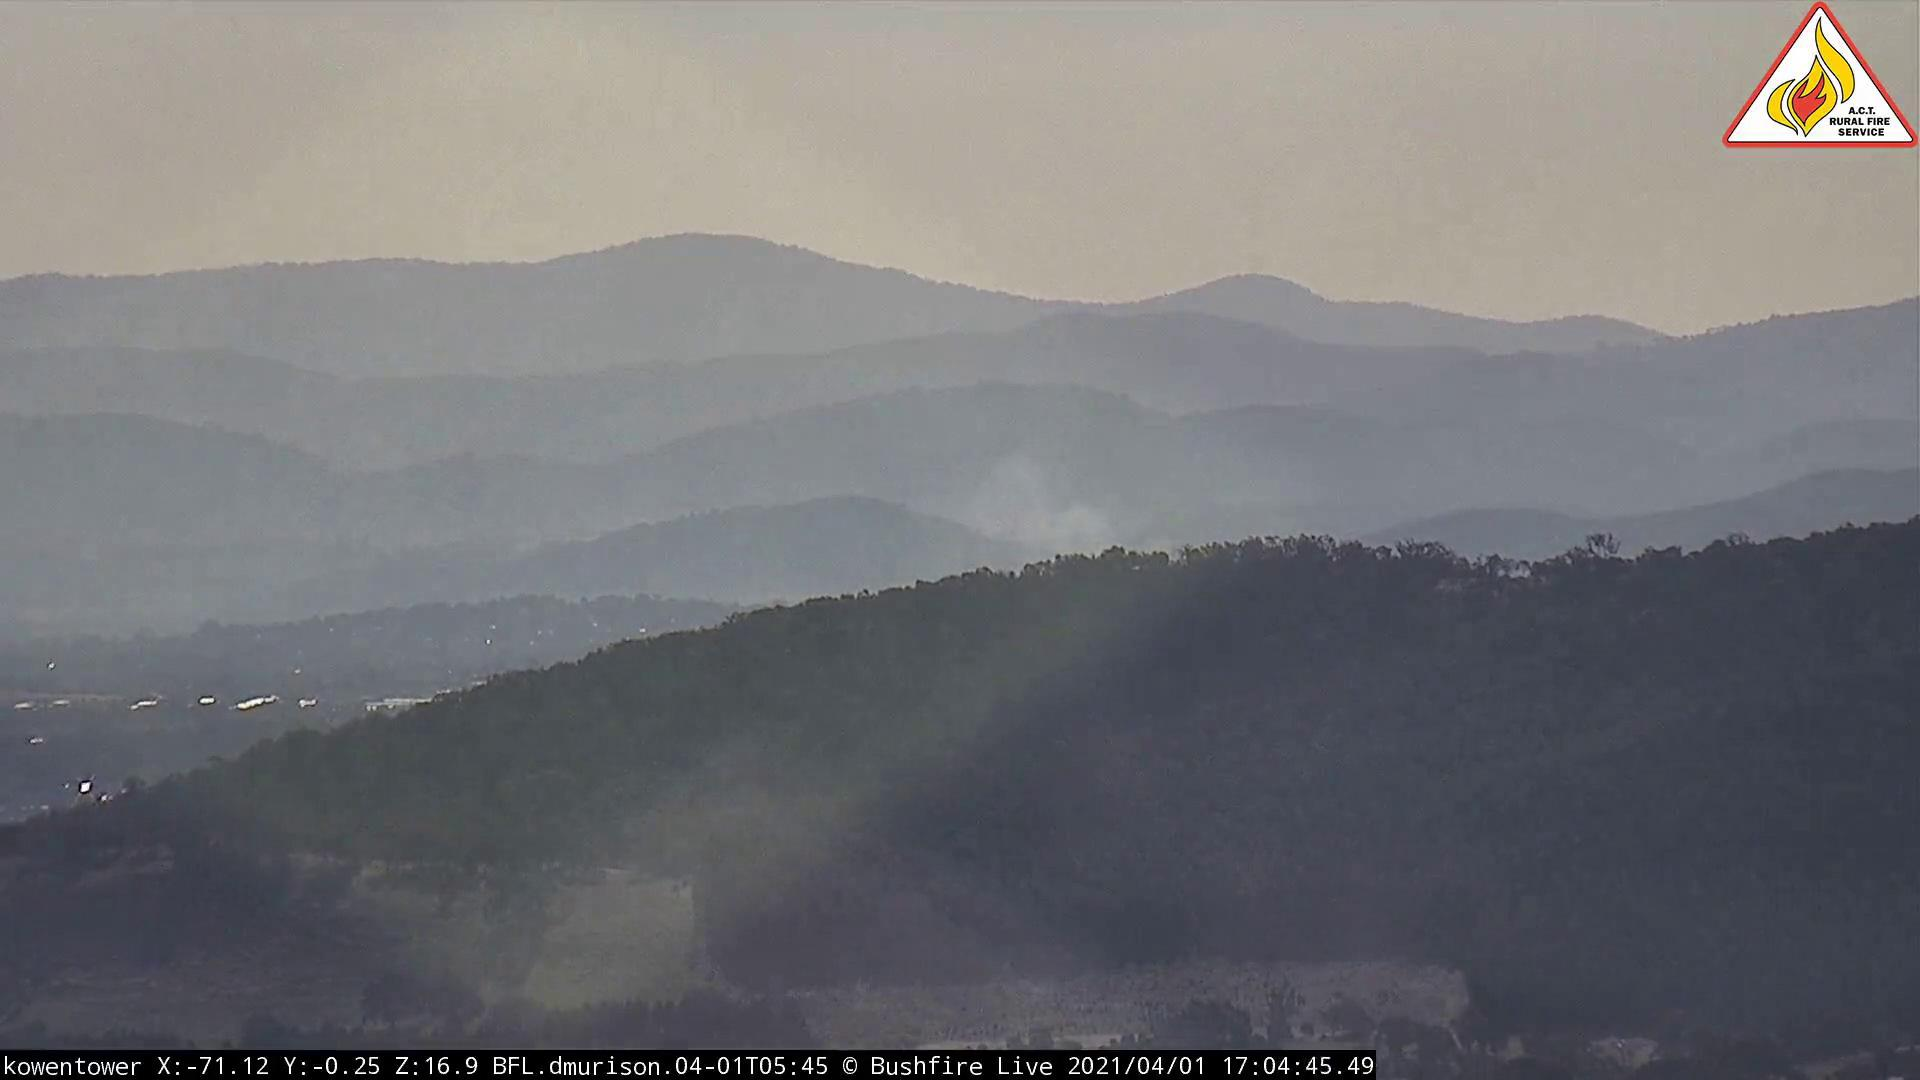Smoke: (939, 430, 1211, 599)
